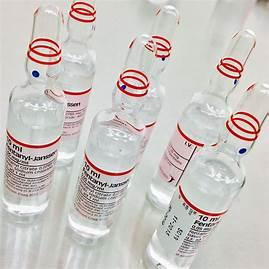Syringe: (138, 77, 269, 259), (75, 30, 155, 247), (5, 3, 66, 222)
